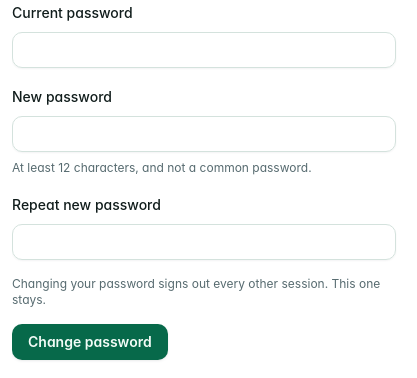
pre-validation › blocks a single repeated character
Type "old passphrase here" into the password field labelled "Current password" at (204, 50), box x1=12 y1=32 x2=396 y2=68
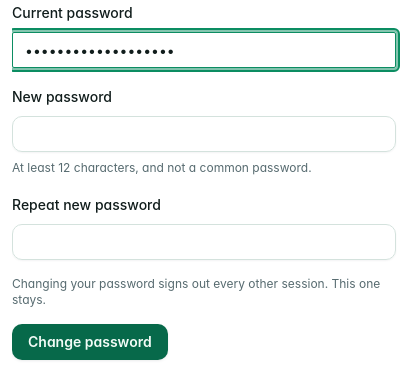
Type "aaaaaaaaaaaaaa" into the password field labelled "New password" at (204, 134), box x1=12 y1=116 x2=396 y2=152
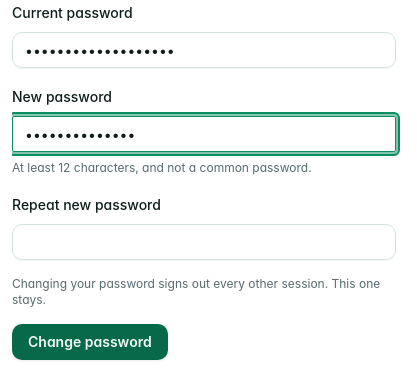
Type "aaaaaaaaaaaaaa" into the password field labelled "Repeat new password" at (204, 242), box x1=12 y1=224 x2=396 y2=260
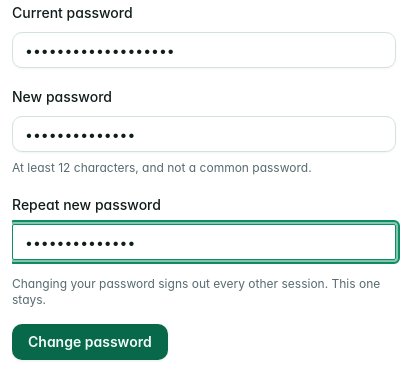
Click the button "Change password" at (90, 342), box x1=12 y1=324 x2=168 y2=360
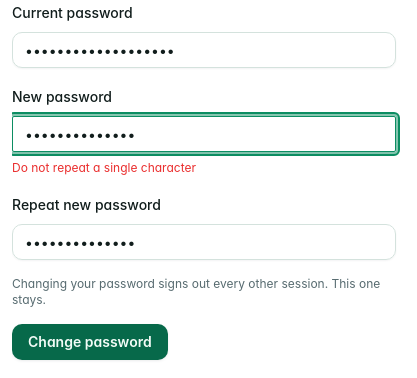
Result: the text "Do not repeat a single character" is shown at x1=12 y1=160 x2=196 y2=175
